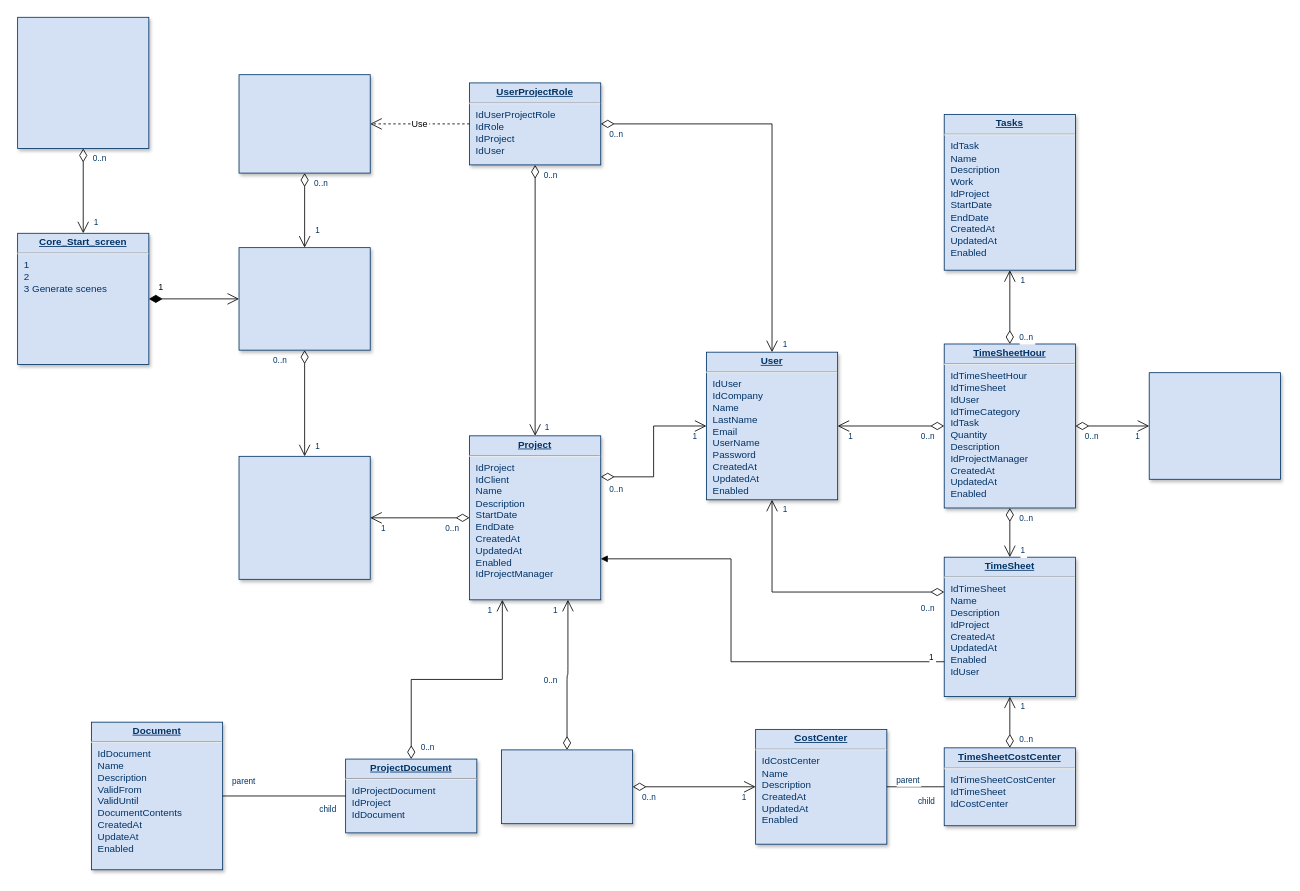
The diagram is 1300 pixels wide and 891 high, and some of its shapes have lost their labels. The shapes that lost their labels are listed below. From the top down, each one's centre as x and y in pixels, then its label:
At [84,83]: "Core_Setup_env 1 Initialize all 2 Read saved status 3".
At [305,125]: "Role IdCompany Name Description CreatedAt UpdatedAt Enabled".
At [305,300]: "Core_Loop 1".
At [1215,427]: "TimeCategory IdTimeCategory Name Description CreatedAt UpdatedAt Enabled".
At [305,518]: "Core_Draw_scene IdClient IdCompany Name Description CreatedAt UpdatedAt Enabled".
At [567,787]: "ProjectCostCenter IdProjectCostCenter IdProject IdCostCenter".
